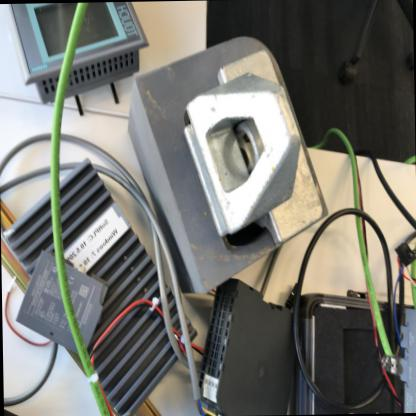CornerCasting: (133, 47, 234, 301)
Twistlock: (176, 38, 330, 258)
